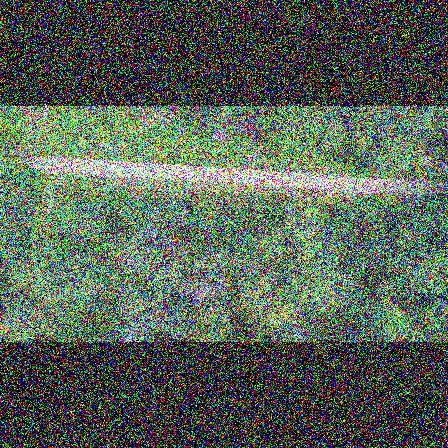Dead: (120, 294, 164, 342), (189, 277, 219, 308), (159, 237, 193, 263), (136, 222, 164, 241)
